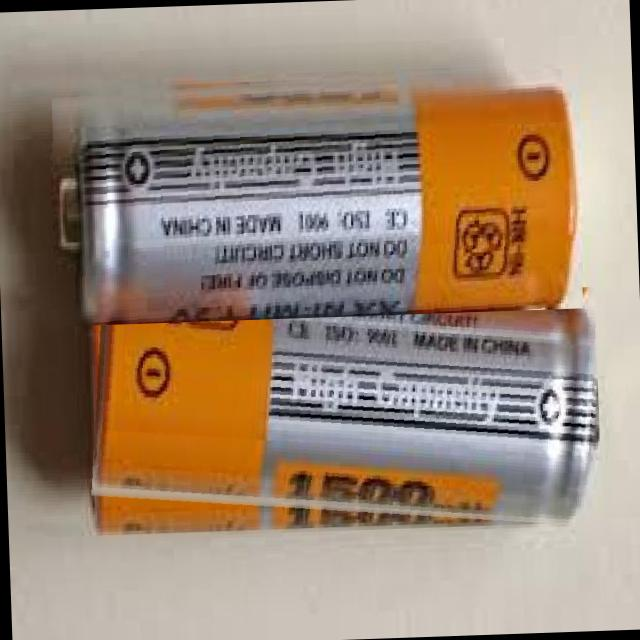Hazard: (48, 58, 582, 326), (84, 286, 602, 544)
